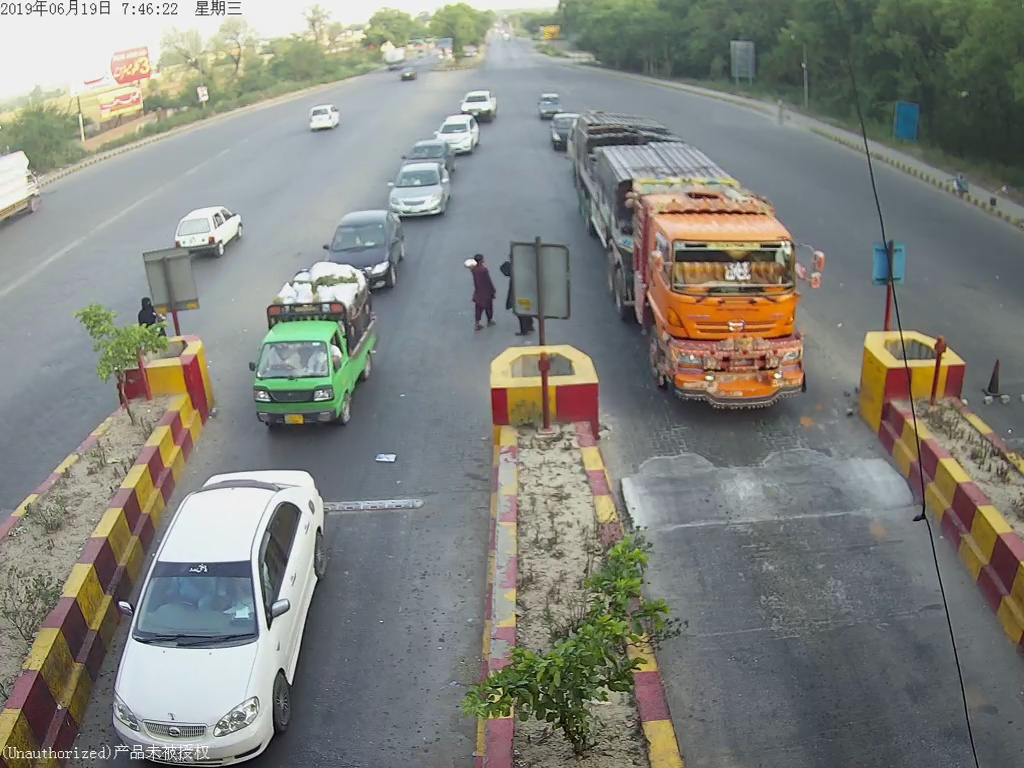Cat-1: (114, 478, 336, 754), (255, 268, 390, 427), (326, 214, 409, 271), (389, 161, 448, 219)
Cat-5: (580, 119, 828, 412)
